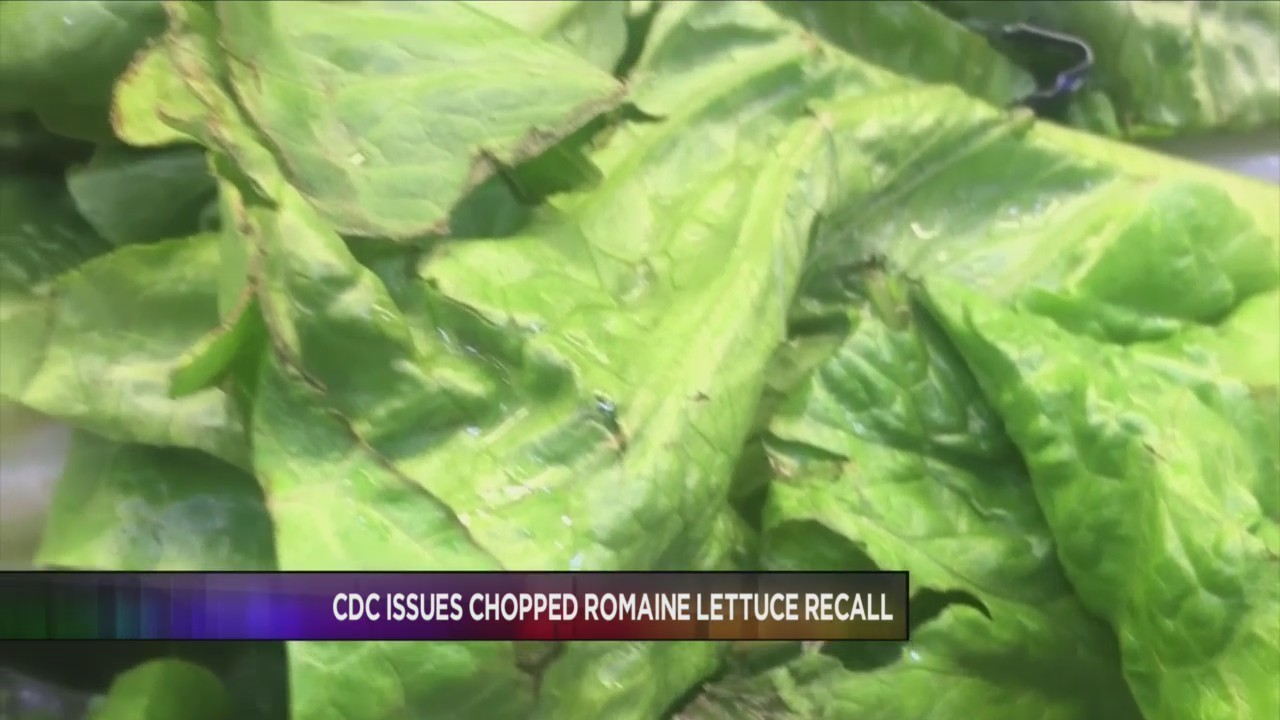chopped lettuce: (75, 23, 1242, 567)
